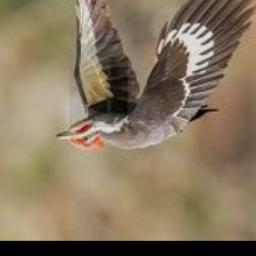Woodpecker: (56, 0, 256, 150)
